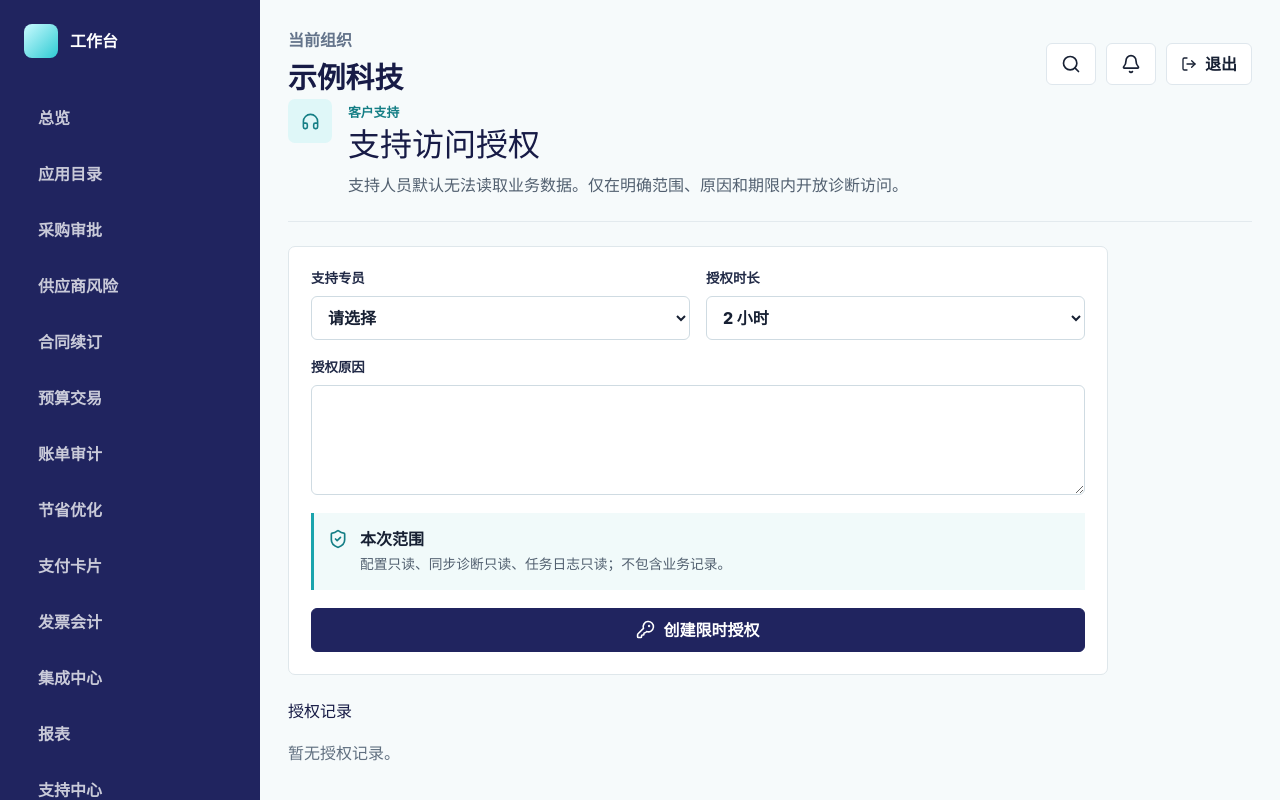
Scenario: 客户可以创建限时诊断授权
Expected: the heading "支持访问授权" is shown, [348, 125, 540, 164]
Select "支持专员" in the dropdown labelled "支持专员" at point(500, 318), box [311, 296, 690, 340]
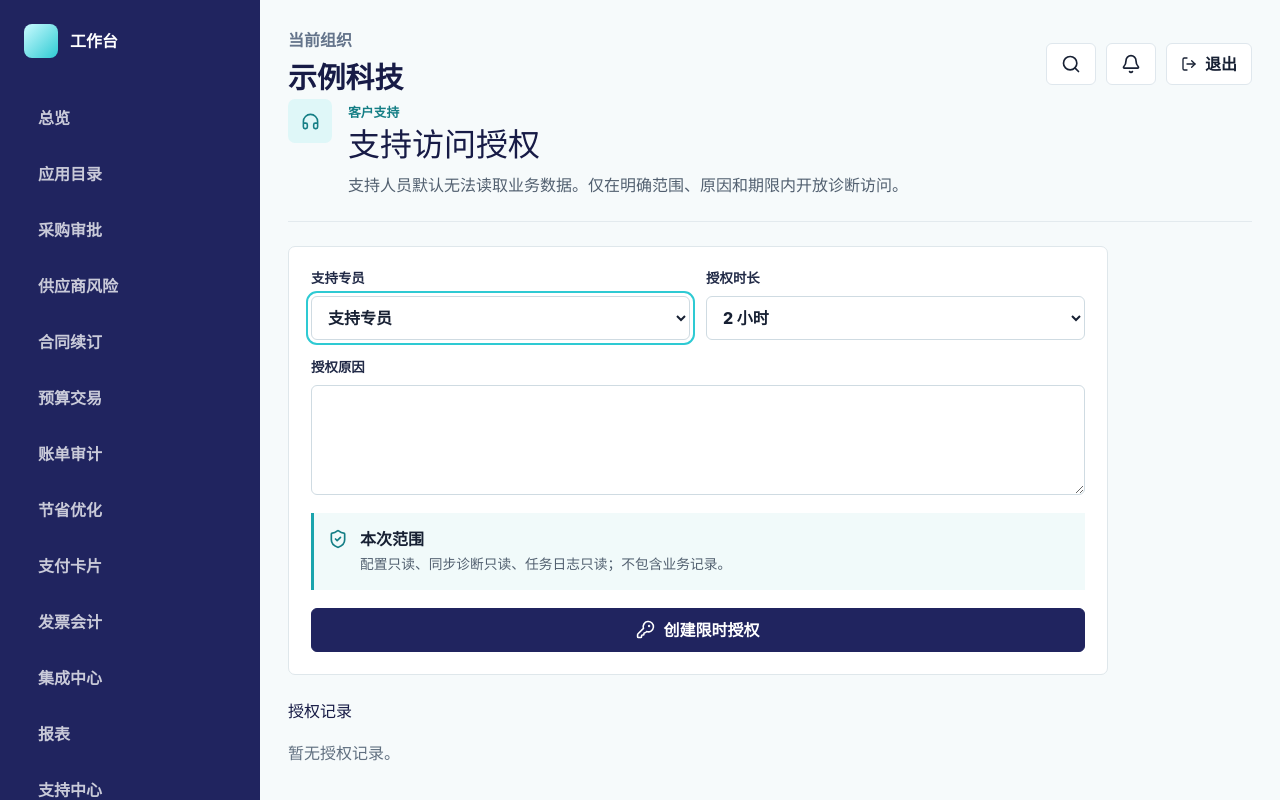
Type "排查身份目录同步错误" into the text box labelled "授权原因" at point(698, 440), box [311, 385, 1085, 495]
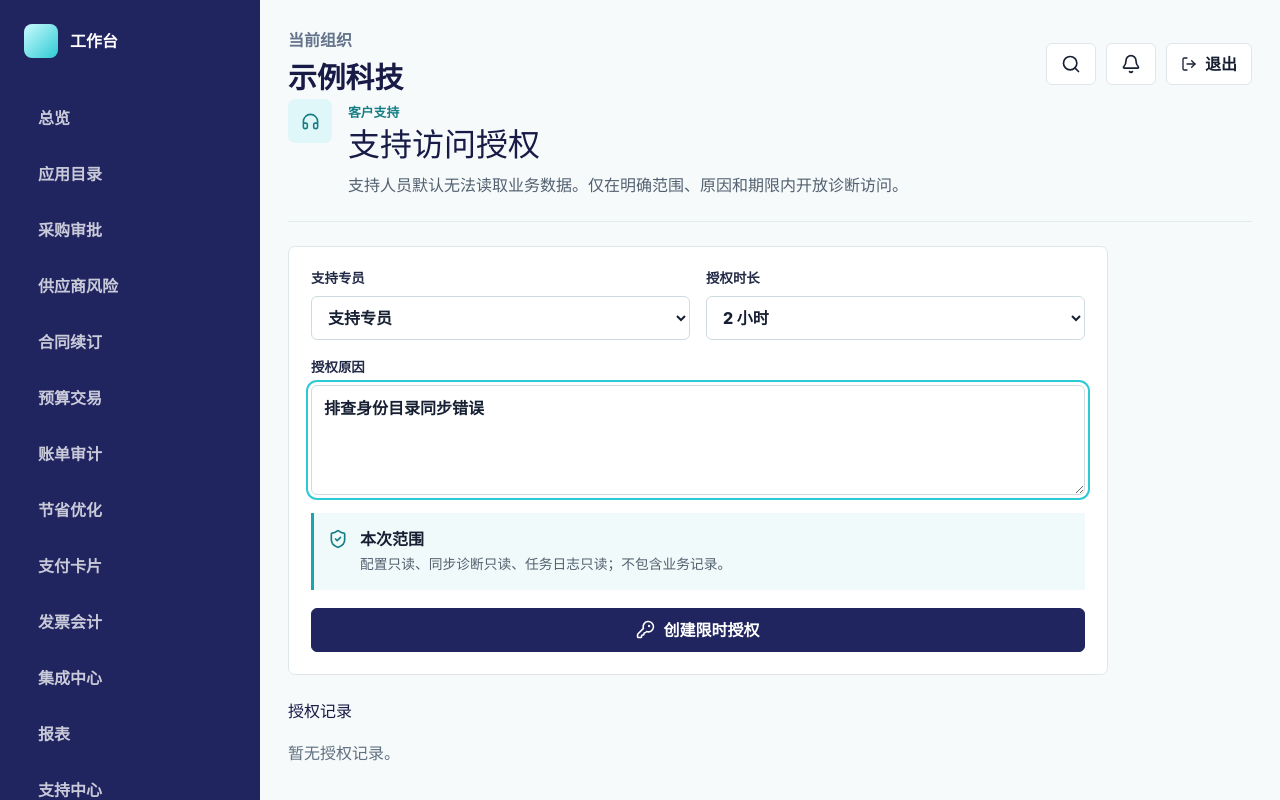
Click the button "创建限时授权" at point(698, 630), box [311, 608, 1085, 652]
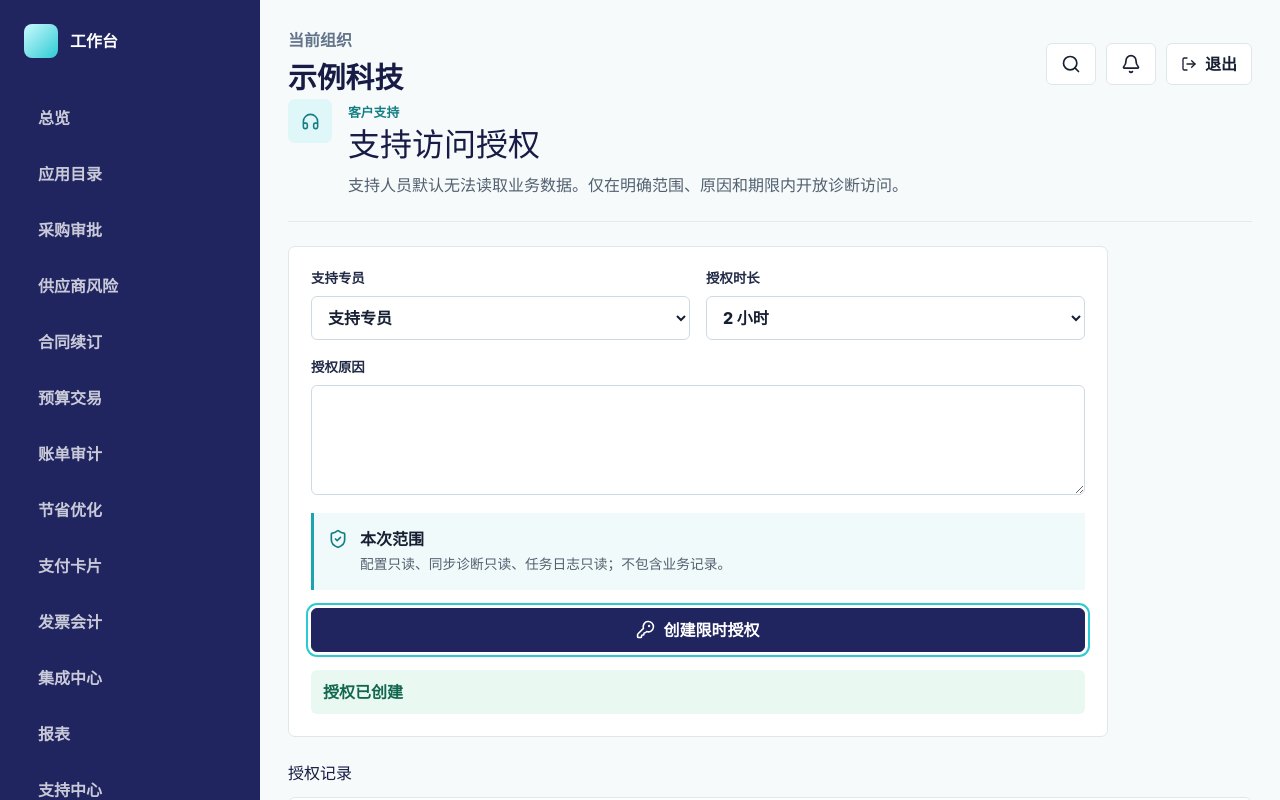
Expected: the text "授权已创建" is shown, [311, 670, 1085, 714]
